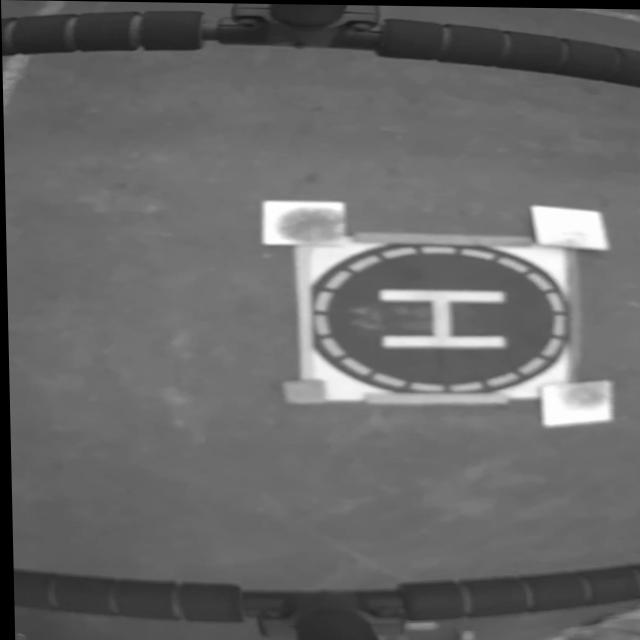Helipad: (378, 288, 504, 349)
